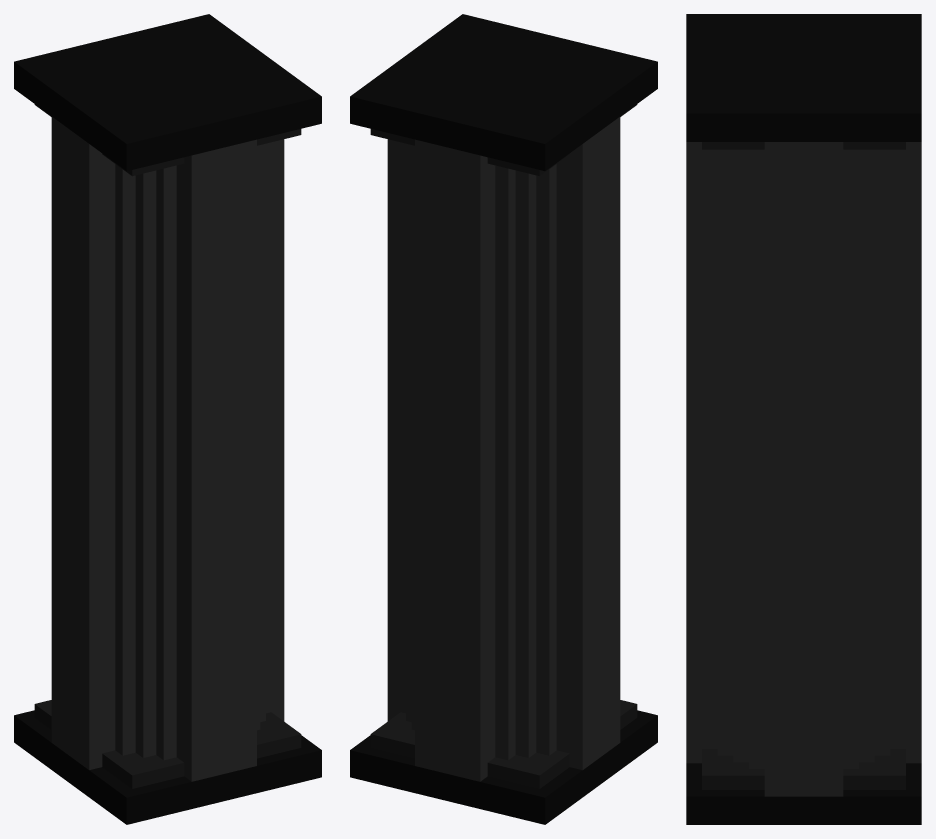
The model's file is Corner-Stone-Model-01.fbx.
3 views of the same model, side by side, from view 1: azimuth 30°, elevation 25°; view 2: azimuth 150°, elevation 25°; view 3: azimuth 270°, elevation 25° (orthographic). The views are drawn at different scales.
Parts seen in each view (by area): view 1: Corner-Stone-Model-01; view 2: Corner-Stone-Model-01; view 3: Corner-Stone-Model-01.
Boxes of the visible parts, <box> form: Corner-Stone-Model-01: <box>14,14,321,824</box>; Corner-Stone-Model-01: <box>350,14,657,824</box>; Corner-Stone-Model-01: <box>686,14,921,824</box>.
Size of the model in its own units: 15 by 50 by 15.
Materials: 1 (1 with a texture image).
